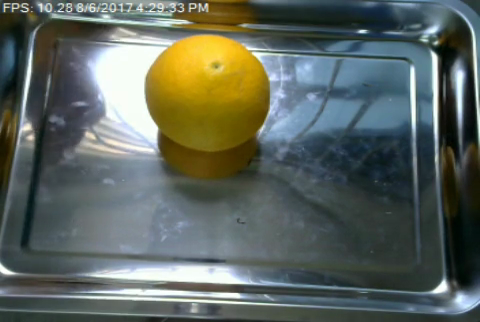Orange: (144, 33, 270, 149)
